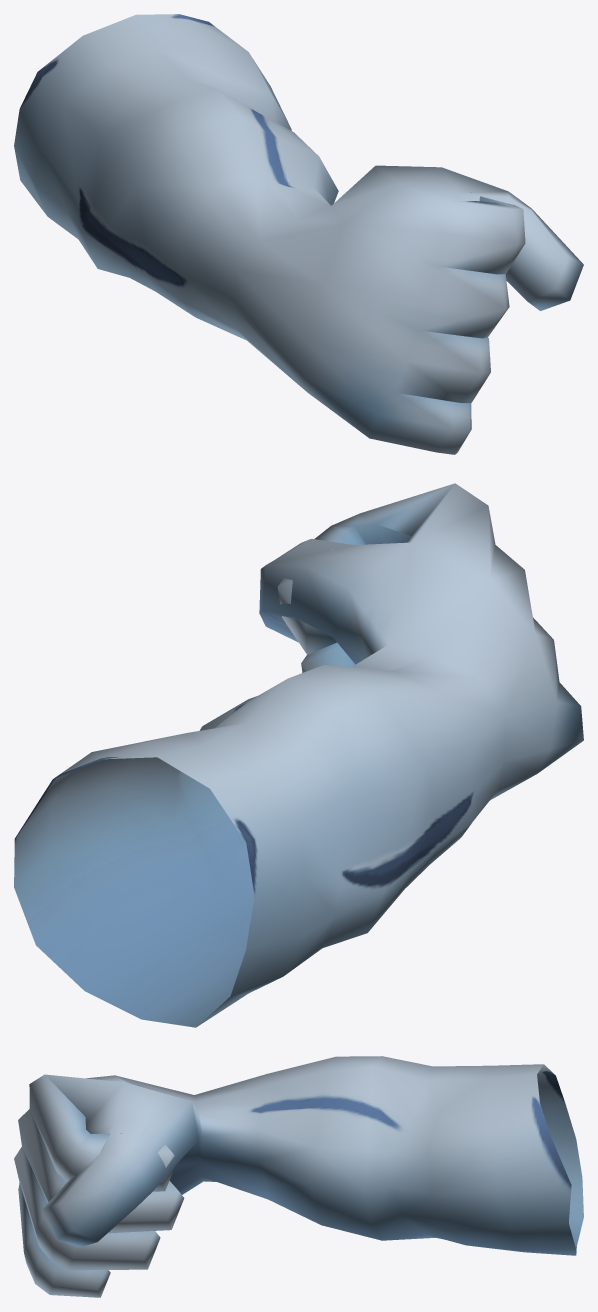
File: eff_mesh_guaili_quantou.FBX
The picture shows the model from 3 angles, top to bottom: view 1: azimuth 30°, elevation 25°; view 2: azimuth 150°, elevation 25°; view 3: azimuth 270°, elevation 25°; orthographic projection. The views are drawn at different scales.
Parts seen in each view (by area): view 1: quantou; view 2: quantou; view 3: quantou.
Boxes of the visible parts, <box> form: quantou: <box>14,14,583,454</box>; quantou: <box>14,483,583,1027</box>; quantou: <box>14,1056,583,1297</box>.
Bounding box in the file's own units: 0.3023 × 0.2494 × 0.5773.
